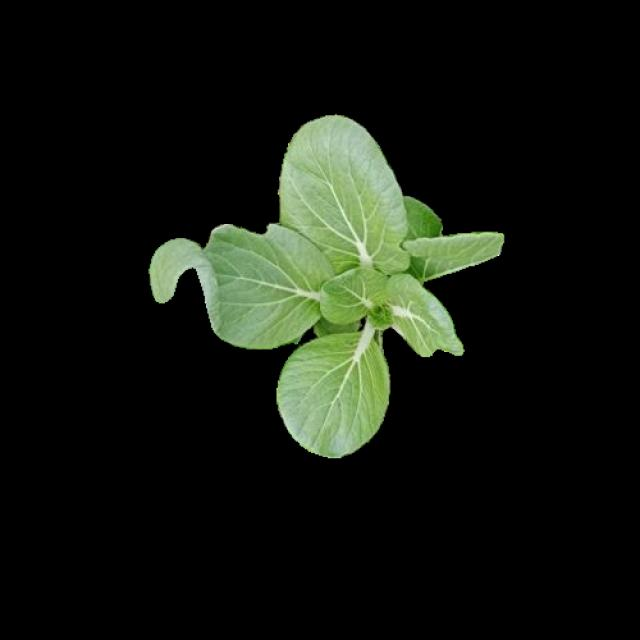healthy: (148, 111, 496, 457)
not-mature: (147, 115, 501, 456)
